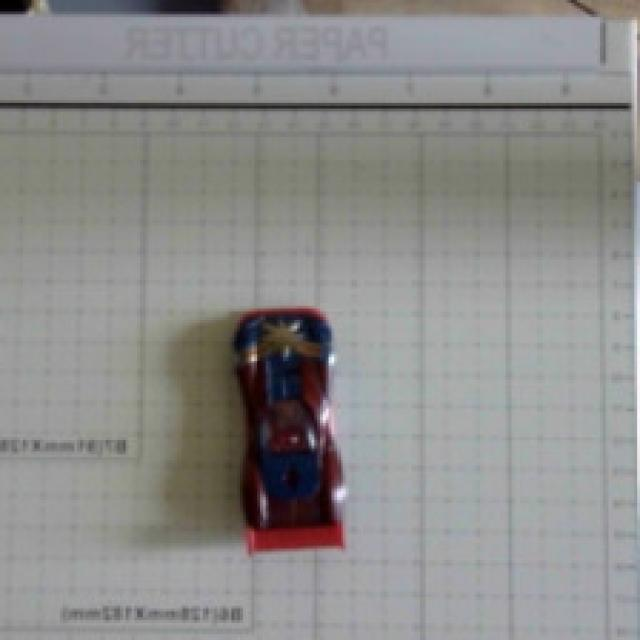Red Car: (157, 266, 454, 576)
